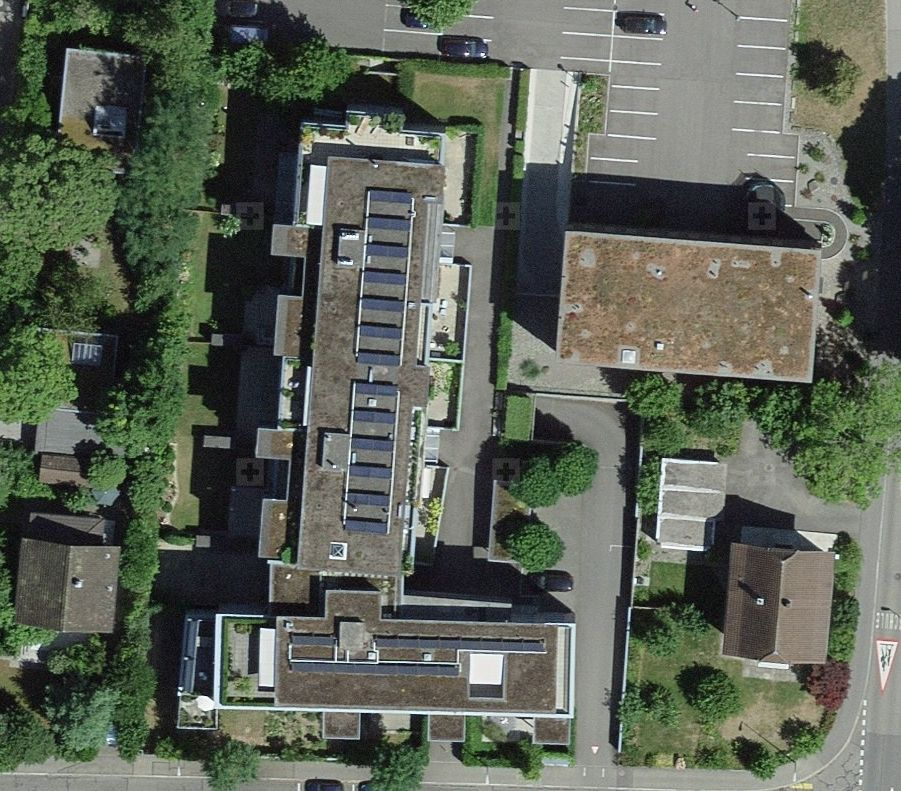solar: (334, 183, 421, 539), (283, 628, 552, 679), (351, 186, 413, 370), (339, 377, 401, 536)
